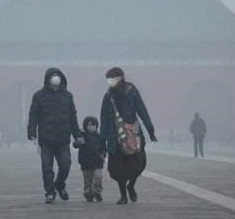person: (100, 67, 158, 204), (27, 67, 85, 203), (72, 116, 109, 203), (189, 112, 210, 160)
